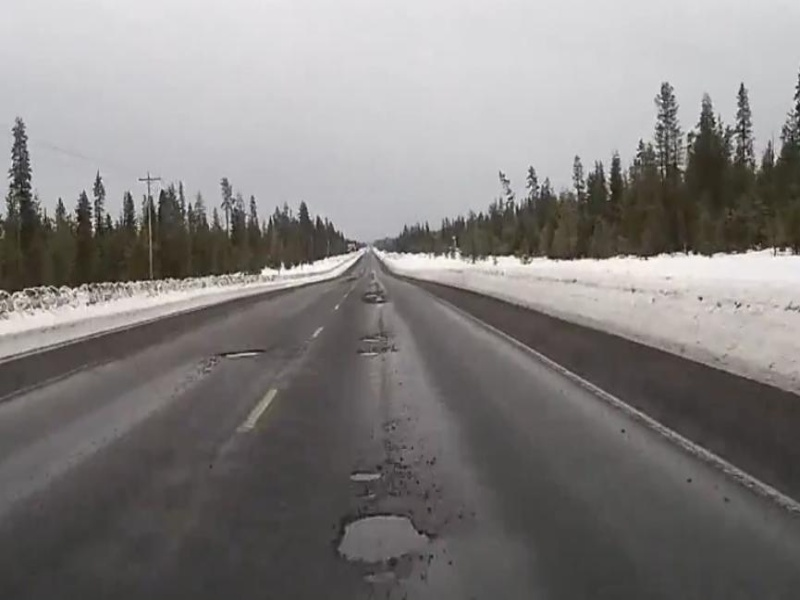pothole: (333, 504, 438, 564), (216, 346, 268, 362), (344, 467, 387, 484), (359, 332, 384, 344), (357, 347, 387, 356)
